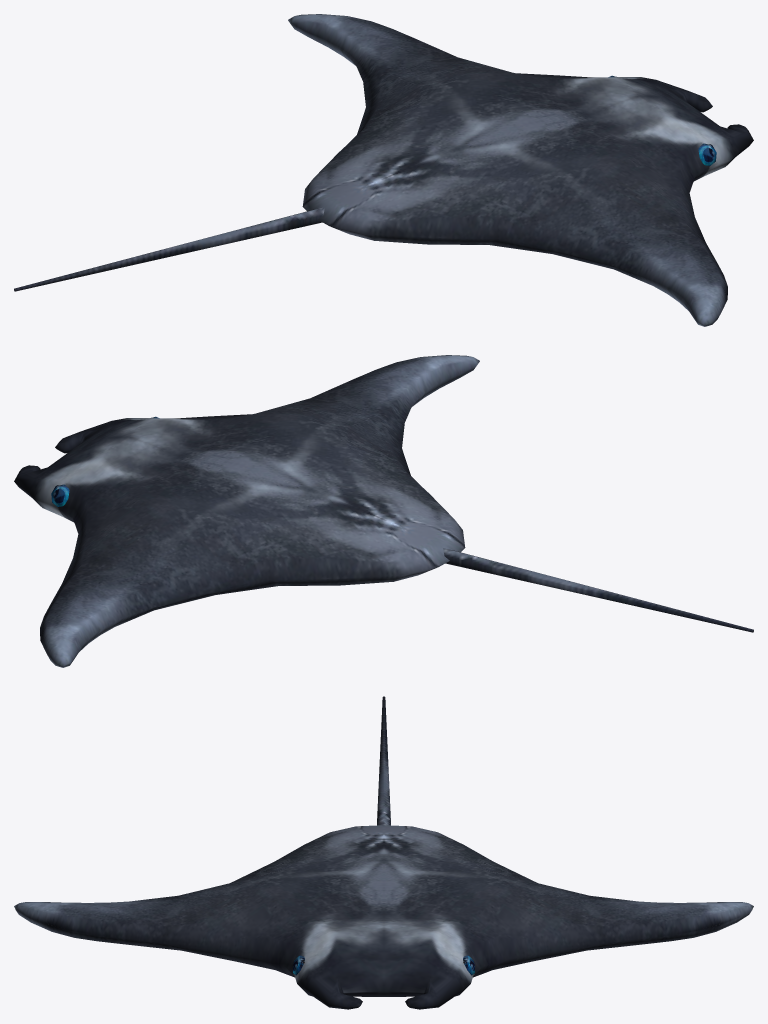
File: manta_ray.glb
3 renders of one model, top to bottom at view 1: azimuth 30°, elevation 25°; view 2: azimuth 150°, elevation 25°; view 3: azimuth 270°, elevation 25°, orthographic. The views are drawn at different scales.
Parts seen in each view (by area): view 1: Body; view 2: Body; view 3: Body.
Boxes of the visible parts, box(x1,y1,x2,y2) form: Body: box(14, 14, 753, 326); Body: box(14, 355, 753, 667); Body: box(14, 696, 753, 1009).
Bounding box in the file's own units: 1 × 0.0811 × 1.01.
Materials: 3 (3 with a texture image).
